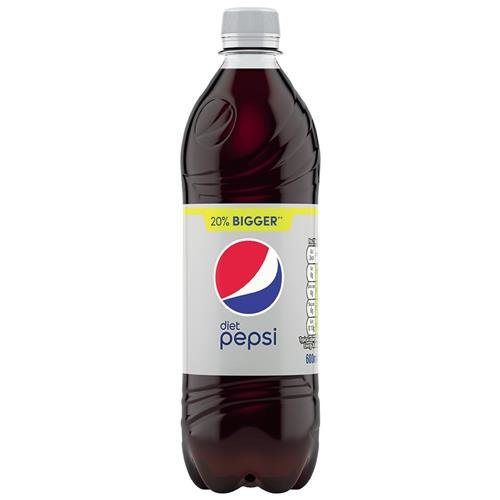pepsi: (214, 238, 281, 314), (214, 240, 281, 314)
